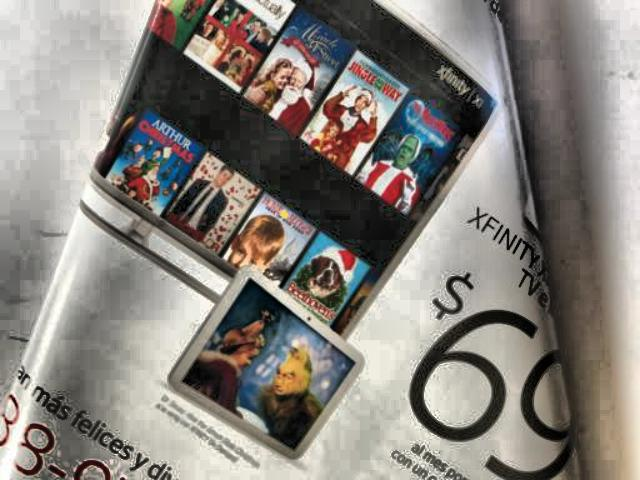Paper: (11, 0, 597, 480)
